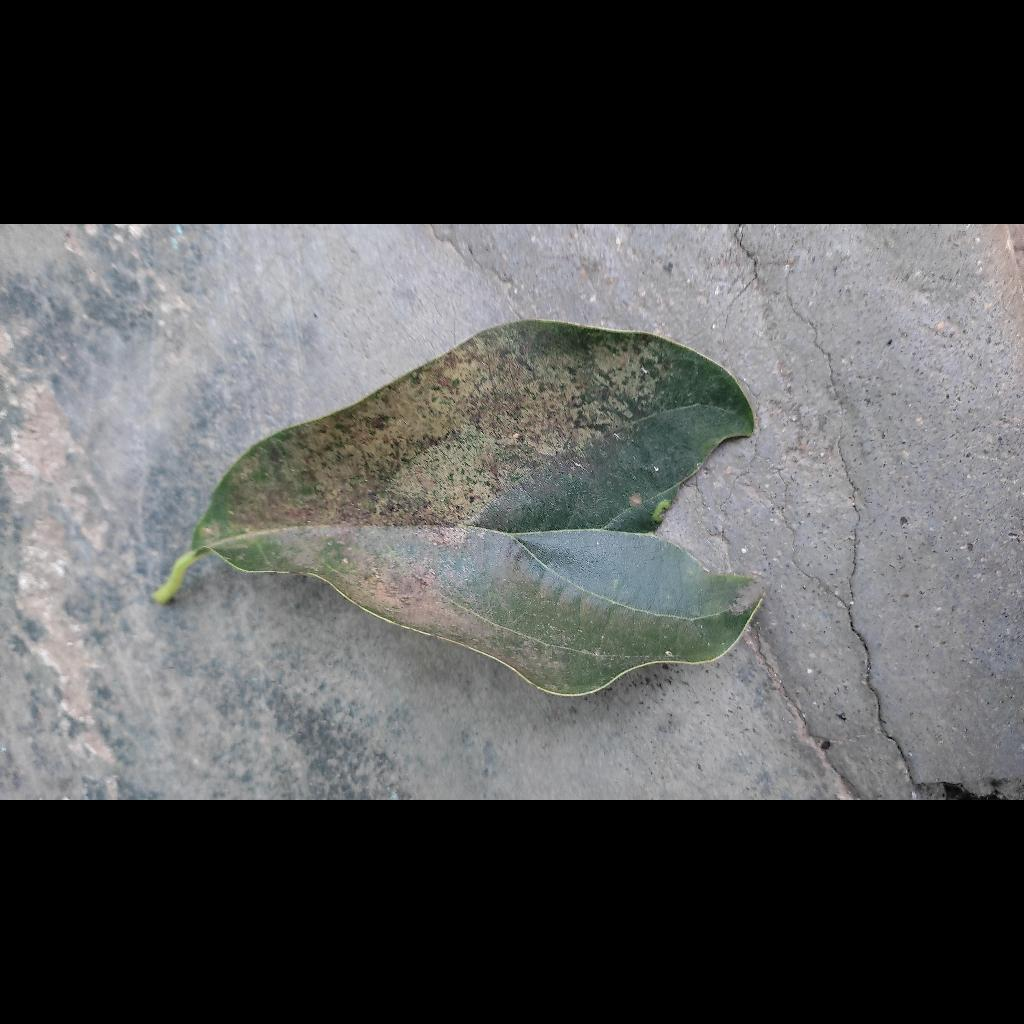antracnosis_hoja: (189, 319, 851, 651)
